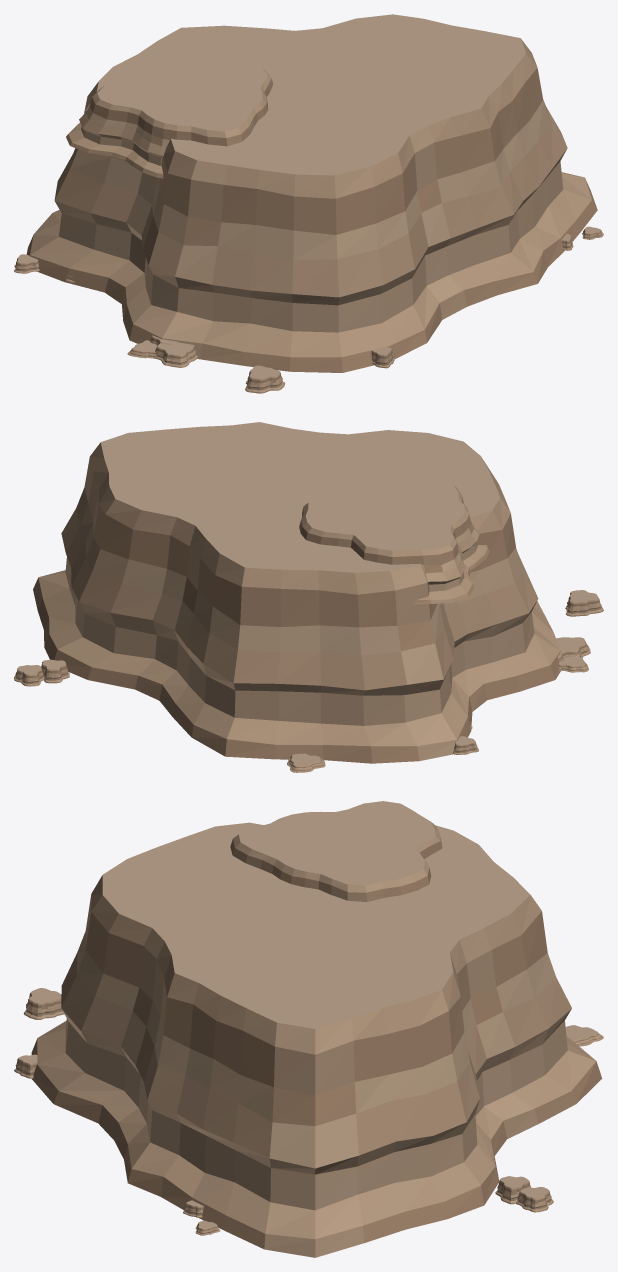
File: RoadCutA.glb
The picture shows the model from 3 angles, top to bottom: view 1: azimuth 30°, elevation 25°; view 2: azimuth 150°, elevation 25°; view 3: azimuth 270°, elevation 25°; orthographic projection. The views are drawn at different scales.
Visible parts, largest first — view 1: Eroded road cutting, Fractured cap, Detached sandstone fragment.002, Detached sandstone fragment.009; view 2: Eroded road cutting, Fractured cap, Detached sandstone fragment.002, Detached sandstone fragment.013, Detached sandstone fragment.010, Detached sandstone fragment.001, Detached sandstone fragment.009; view 3: Eroded road cutting, Fractured cap, Detached sandstone fragment.002, Detached sandstone fragment.001, Detached sandstone fragment.010.
Boxes of the visible parts, x1,y1,x2,y2 form: Eroded road cutting: (26, 14, 597, 372); Fractured cap: (66, 56, 273, 178); Detached sandstone fragment.002: (245, 365, 285, 393); Detached sandstone fragment.009: (154, 342, 197, 367); Eroded road cutting: (33, 422, 560, 763); Fractured cap: (299, 482, 489, 604); Detached sandstone fragment.002: (565, 590, 603, 616); Detached sandstone fragment.013: (287, 753, 325, 772); Detached sandstone fragment.010: (41, 659, 69, 683); Detached sandstone fragment.001: (14, 665, 44, 686); Detached sandstone fragment.009: (556, 637, 590, 658); Eroded road cutting: (31, 822, 602, 1257); Fractured cap: (230, 801, 442, 901); Detached sandstone fragment.002: (23, 988, 64, 1019); Detached sandstone fragment.001: (516, 1187, 553, 1212); Detached sandstone fragment.010: (495, 1176, 530, 1204).
Size of the model in its own units: 8.34 by 2.78 by 7.3.
